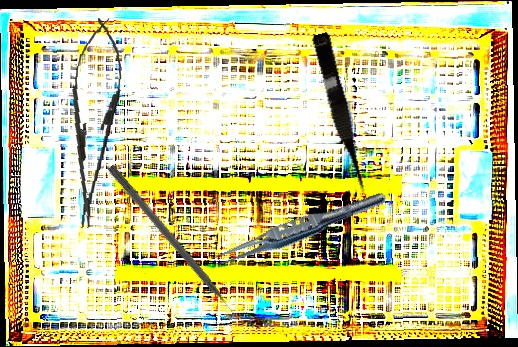Micro Scissor: (308, 31, 372, 198)
Needle Holder: (59, 15, 128, 233)
Pusher: (105, 163, 244, 326)
Tissue Forceps: (207, 182, 390, 277)
